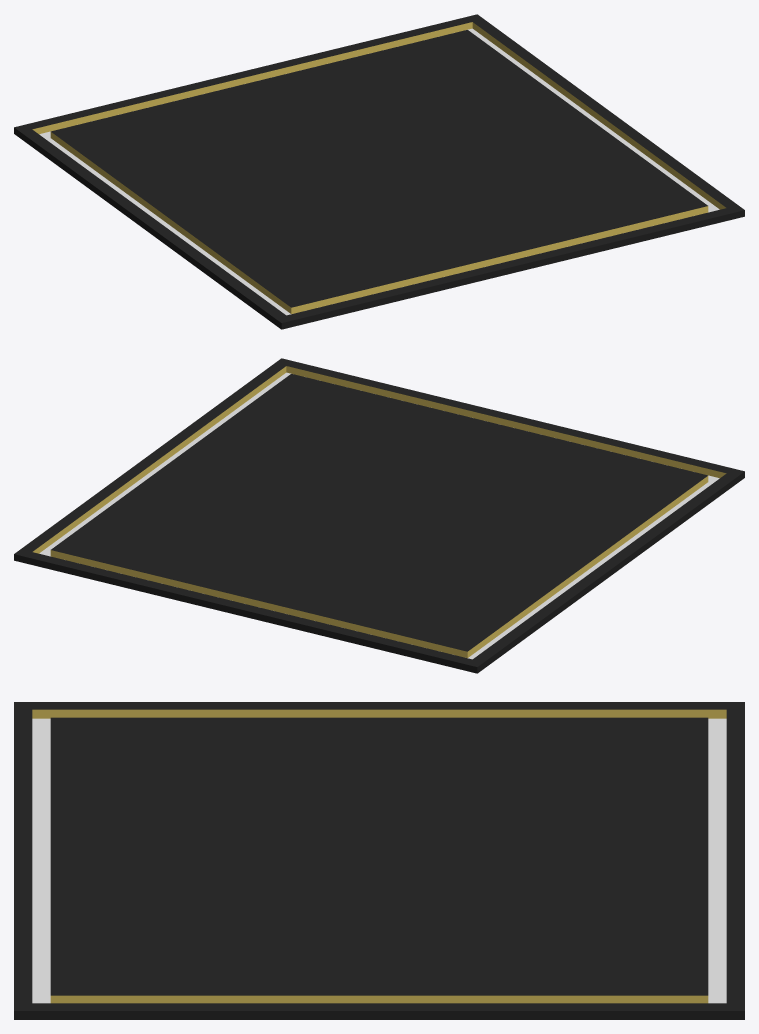
The model's file is FloorPaneled.fbx.
3 views of the same model, one above another, from view 1: azimuth 30°, elevation 25°; view 2: azimuth 150°, elevation 25°; view 3: azimuth 270°, elevation 25° (orthographic). The views are drawn at different scales.
Visible parts, largest first — view 1: Cube.001; view 2: Cube.001; view 3: Cube.001.
Boxes of the visible parts, bbox=[...] form: Cube.001: bbox=[14, 14, 744, 329]; Cube.001: bbox=[14, 358, 744, 673]; Cube.001: bbox=[14, 702, 744, 1019].
Size of the model in its own units: 400 by 5.37 by 400.
